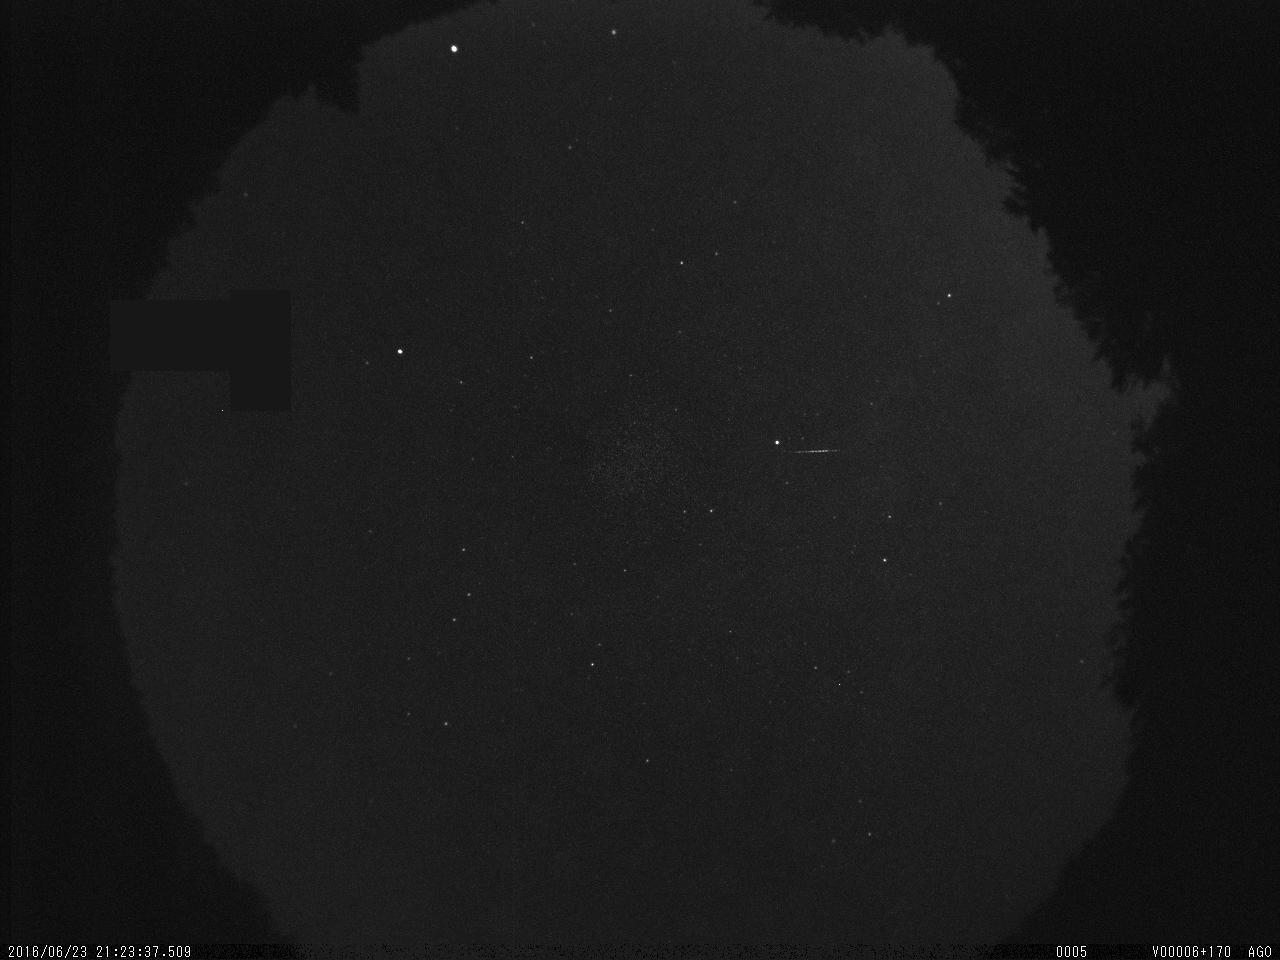meteor: (784, 429, 867, 486)
